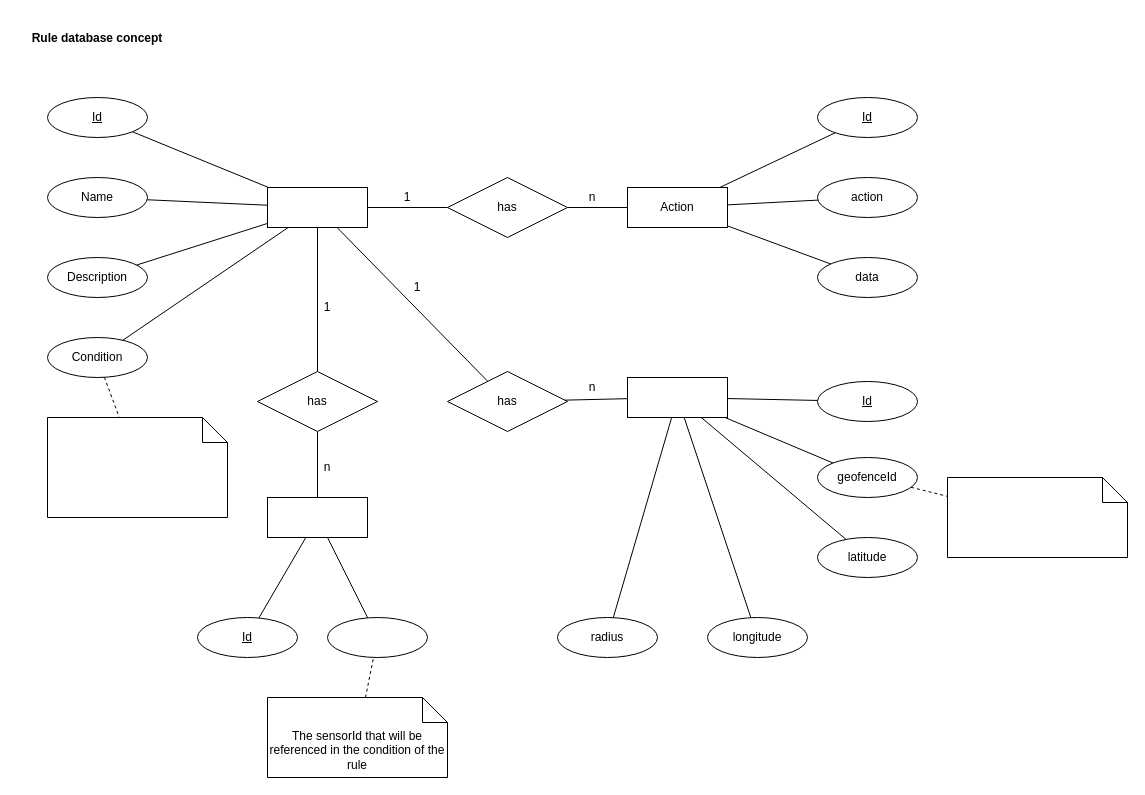
The diagram is 1145 pixels wide and 795 high, and some of its shapes have lost their labels. Each missing label, with the box of its shape:
Condition is a JsonLogic expression and will be hold as string in the database: (46, 416, 228, 518)
Geofence: (626, 376, 728, 418)
Rule: (266, 186, 368, 228)
Sensor: (266, 496, 368, 538)
sensorId: (326, 616, 428, 658)
The geofenceId that will be referenced in the condition of the rule: (946, 476, 1128, 558)
